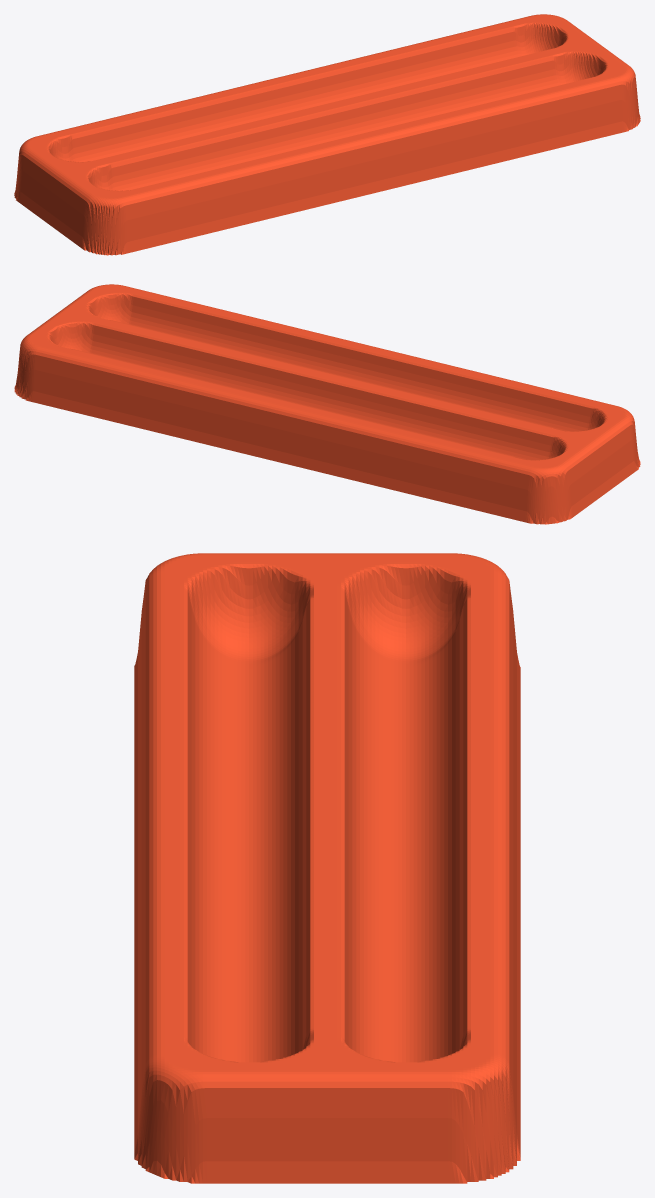
The model's file is mold.glb.
3 renders of one model, top to bottom at view 1: azimuth 30°, elevation 25°; view 2: azimuth 150°, elevation 25°; view 3: azimuth 270°, elevation 25°, orthographic. The views are drawn at different scales.
Parts seen in each view (by area): view 1: geometry_0; view 2: geometry_0; view 3: geometry_0.
Boxes of the visible parts, <box> form: geometry_0: <box>14,14,640,255</box>; geometry_0: <box>14,284,640,524</box>; geometry_0: <box>134,553,520,1183</box>.
Size of the model in its own units: 0.167 by 0.0145 by 0.0505.
